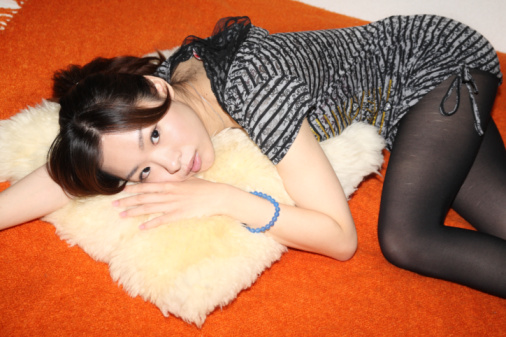deitado: (0, 41, 378, 273)
